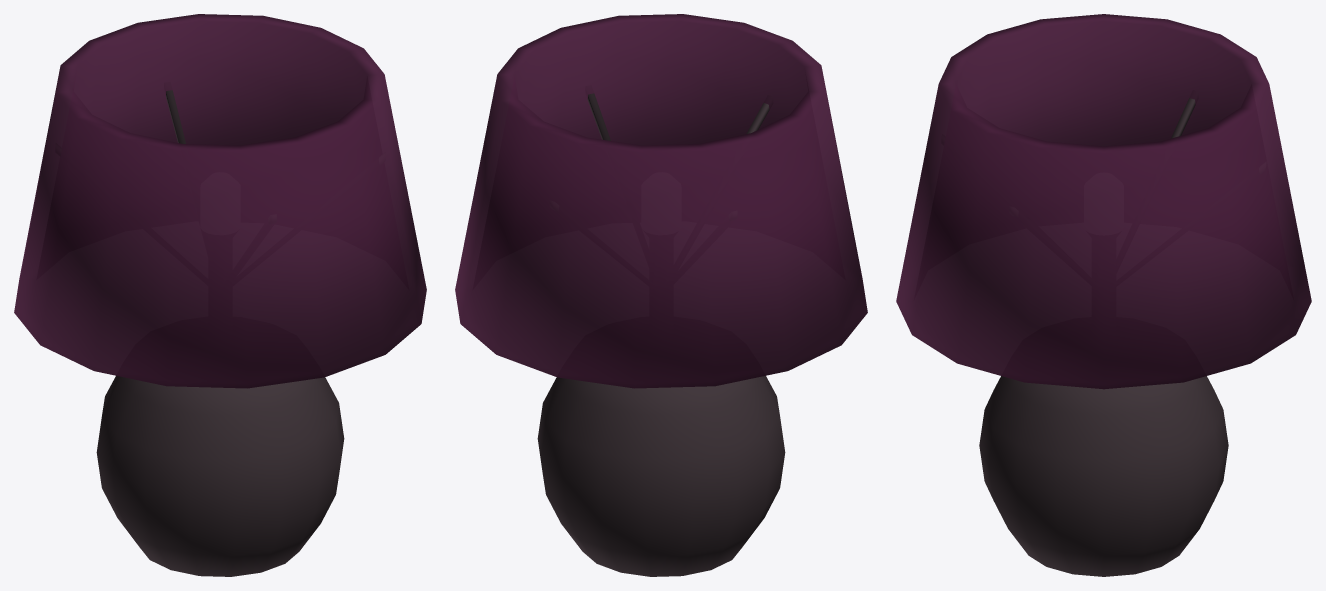
Rendered from purple lamp.fbx.
3 renders of one model, left to right at view 1: azimuth 30°, elevation 25°; view 2: azimuth 150°, elevation 25°; view 3: azimuth 270°, elevation 25°, orthographic.
Parts seen in each view (by area): view 1: Cylinder; view 2: Cylinder; view 3: Cylinder.
Boxes of the visible parts, left/top/right/bottom form: Cylinder: left=14, top=14, right=426, bottom=576; Cylinder: left=455, top=14, right=867, bottom=576; Cylinder: left=896, top=14, right=1311, bottom=576.
Bounding box in the file's own units: 31.46 × 38.3 × 31.46.
